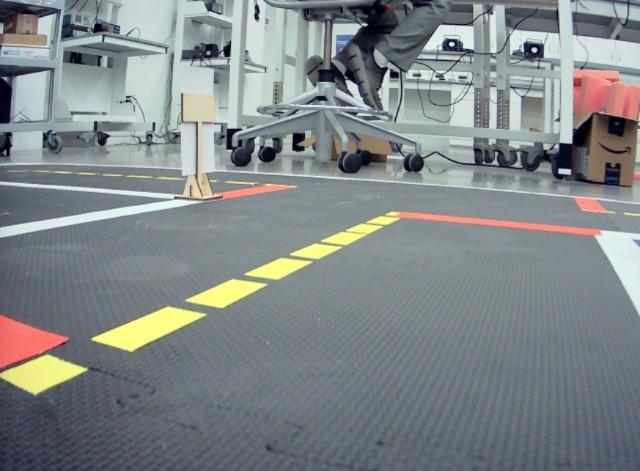redline: (391, 210, 602, 237), (0, 311, 71, 377), (217, 185, 295, 199), (575, 200, 606, 211)
whiteline: (0, 162, 639, 205), (1, 199, 210, 239), (594, 239, 640, 319), (1, 181, 178, 201), (600, 231, 640, 239)
yellowline: (3, 212, 399, 399), (33, 169, 267, 186), (597, 209, 640, 216), (7, 169, 31, 172)
